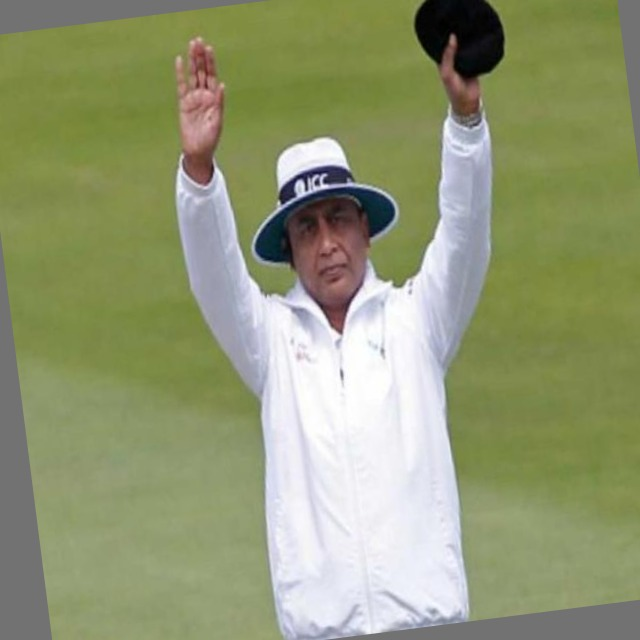Six: (138, 0, 578, 640)
